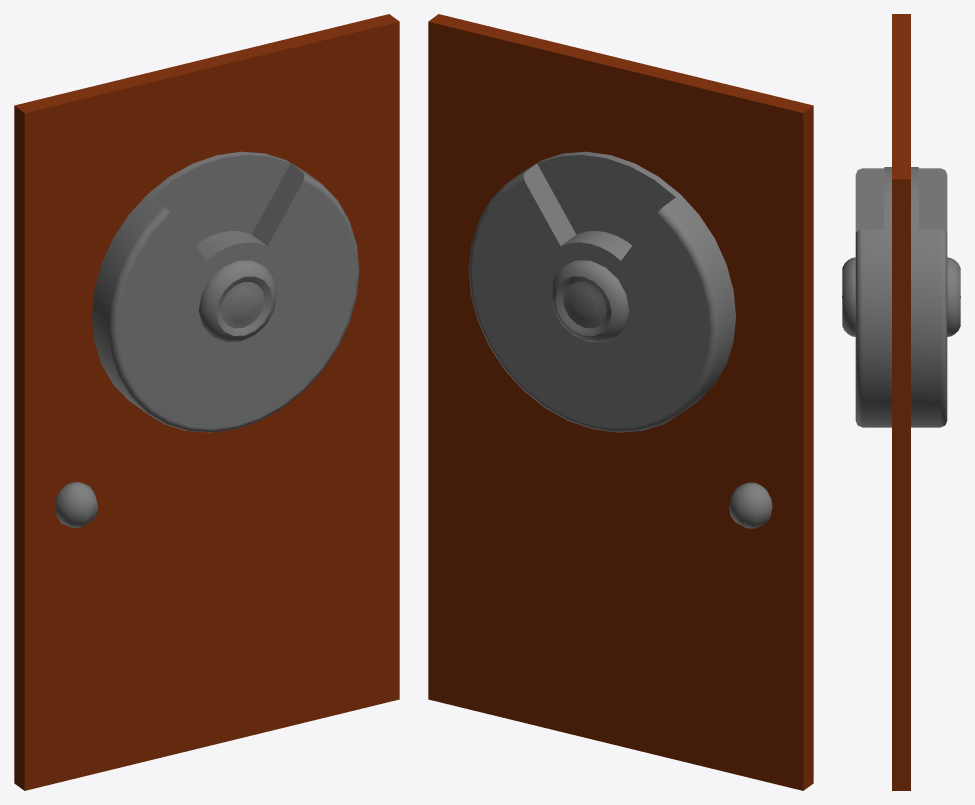
Rendered from home_door_02.fbx.
The picture shows the model from 3 angles, left to right: view 1: azimuth 30°, elevation 25°; view 2: azimuth 150°, elevation 25°; view 3: azimuth 270°, elevation 25°; orthographic projection. The views are drawn at different scales.
Parts seen in each view (by area): view 1: home_door_02; view 2: home_door_02; view 3: home_door_02.
Part boxes in pixels (x1,y1,x2,y2): home_door_02: (14,14,399,790); home_door_02: (428,14,813,790); home_door_02: (842,14,960,790).
Size of the model in its own units: 77.59 by 134 by 23.58.
